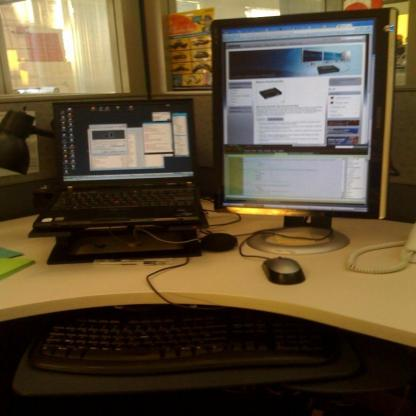board: (32, 97, 202, 229)
